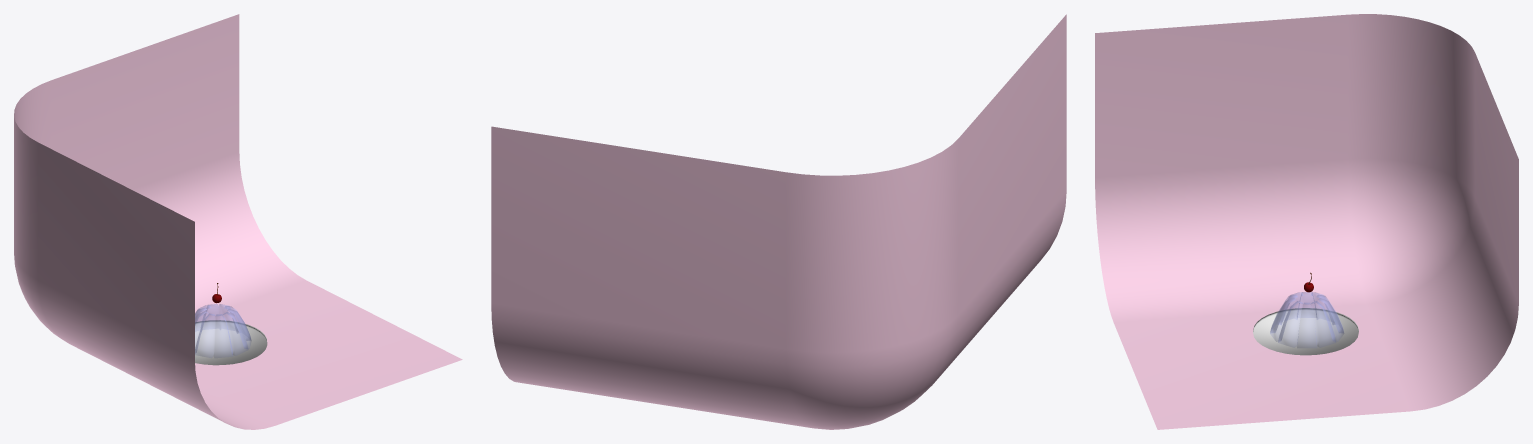
The model's file is jelly.glb.
The picture shows the model from 3 angles, left to right: view 1: azimuth 30°, elevation 25°; view 2: azimuth 150°, elevation 25°; view 3: azimuth 270°, elevation 25°; orthographic projection. The views are drawn at different scales.
Parts seen in each view (by area): view 1: Plane, Circle, Cylinder; view 2: Plane; view 3: Plane, Circle, Cylinder.
Boxes of the visible parts, x1=… form: Plane: x1=14, y1=14, x2=462, y2=429; Circle: x1=195, y1=320, x2=267, y2=365; Cylinder: x1=195, y1=304, x2=251, y2=357; Plane: x1=491, y1=14, x2=1066, y2=429; Plane: x1=1095, y1=14, x2=1518, y2=429; Circle: x1=1253, y1=308, x2=1358, y2=355; Cylinder: x1=1270, y1=292, x2=1343, y2=347.
Bounding box in the file's own units: 18.71 × 12.39 × 19.5.
